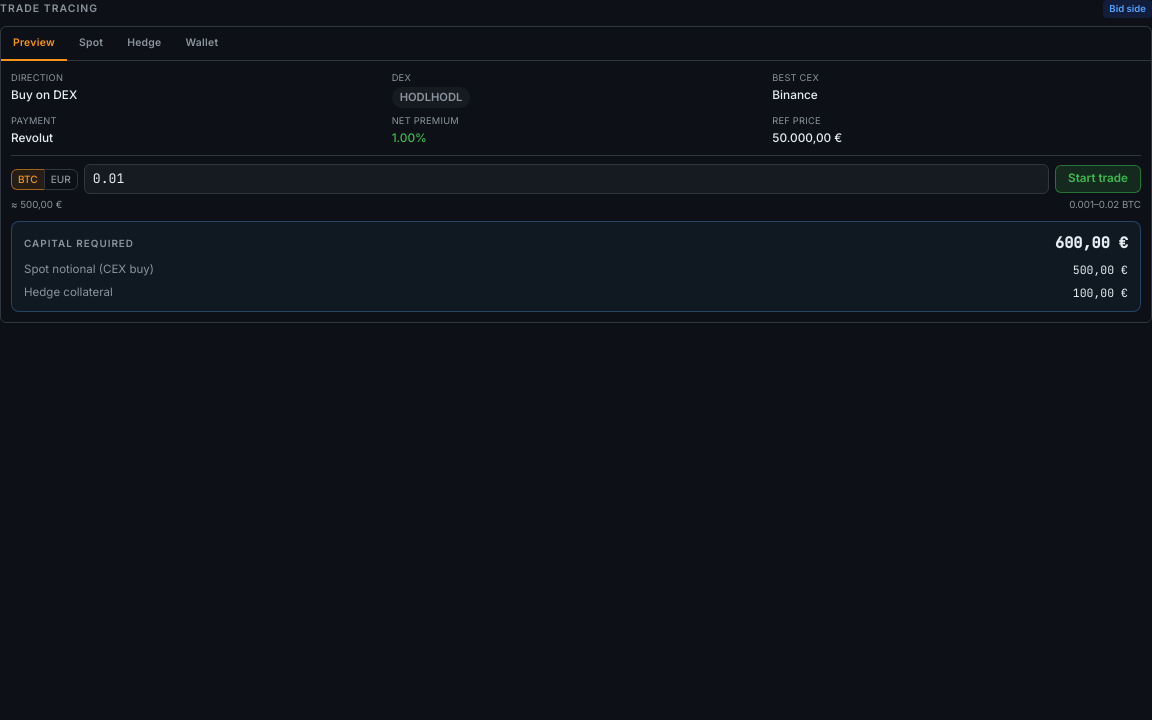
it: TradeTracingPanel trade errors › shows a hedge failure on the hedge tab and marks the filled spot buy as done
Click the button "Start trade" at (1098, 179), box 1055,166 -> 1141,193
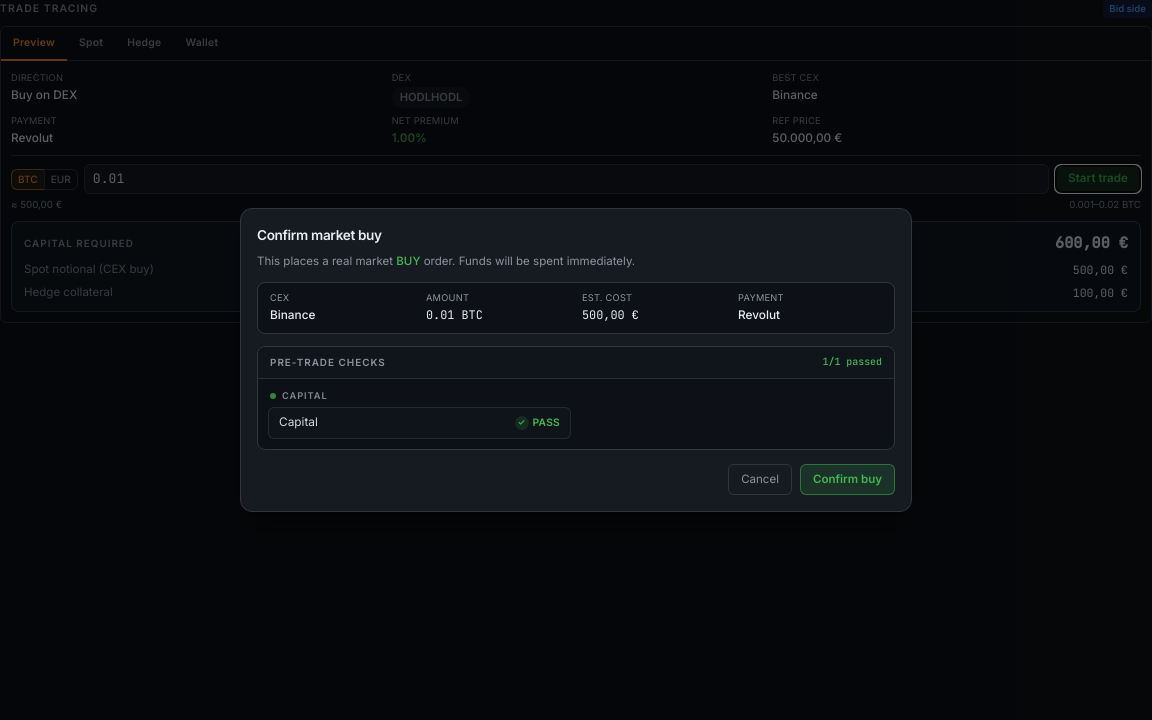
Click the button "Confirm buy" at (847, 479), box 800,464 -> 895,495
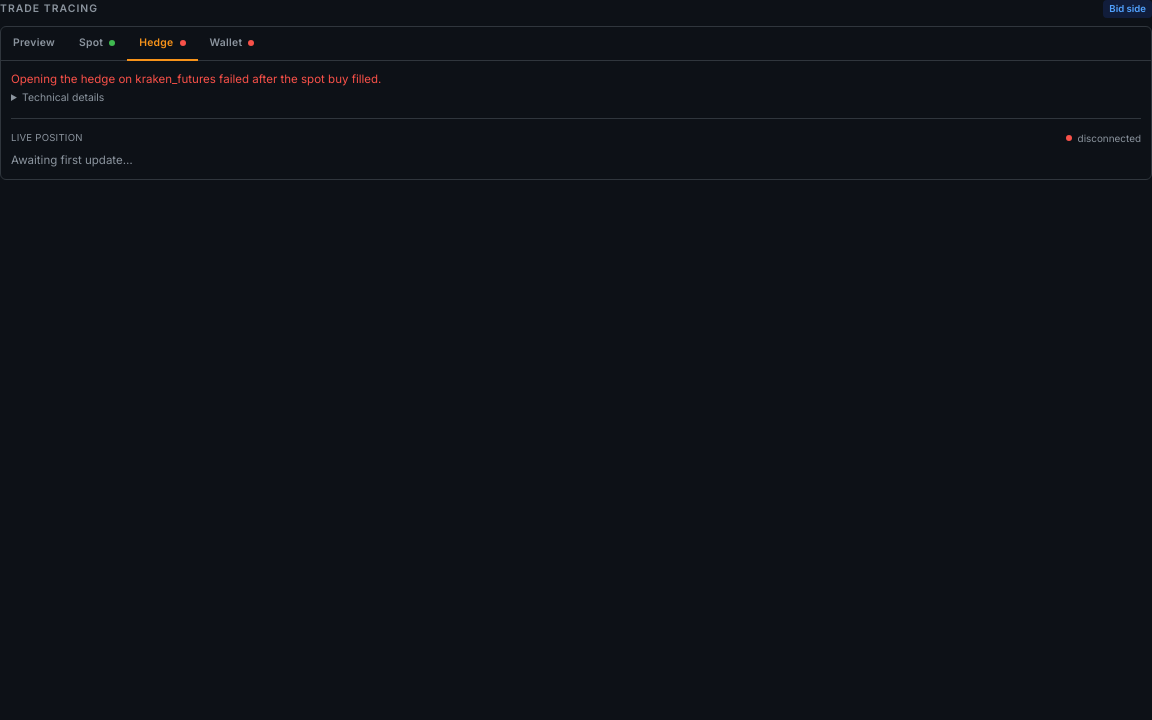
Check: the text "Opening the hedge on kraken_futures failed after the spot buy filled." is shown, box 11,72 -> 381,86
Check: the heading "Technical details" is shown, box 22,91 -> 104,104
Click the button "Spot" at (97, 44), box 67,27 -> 127,61
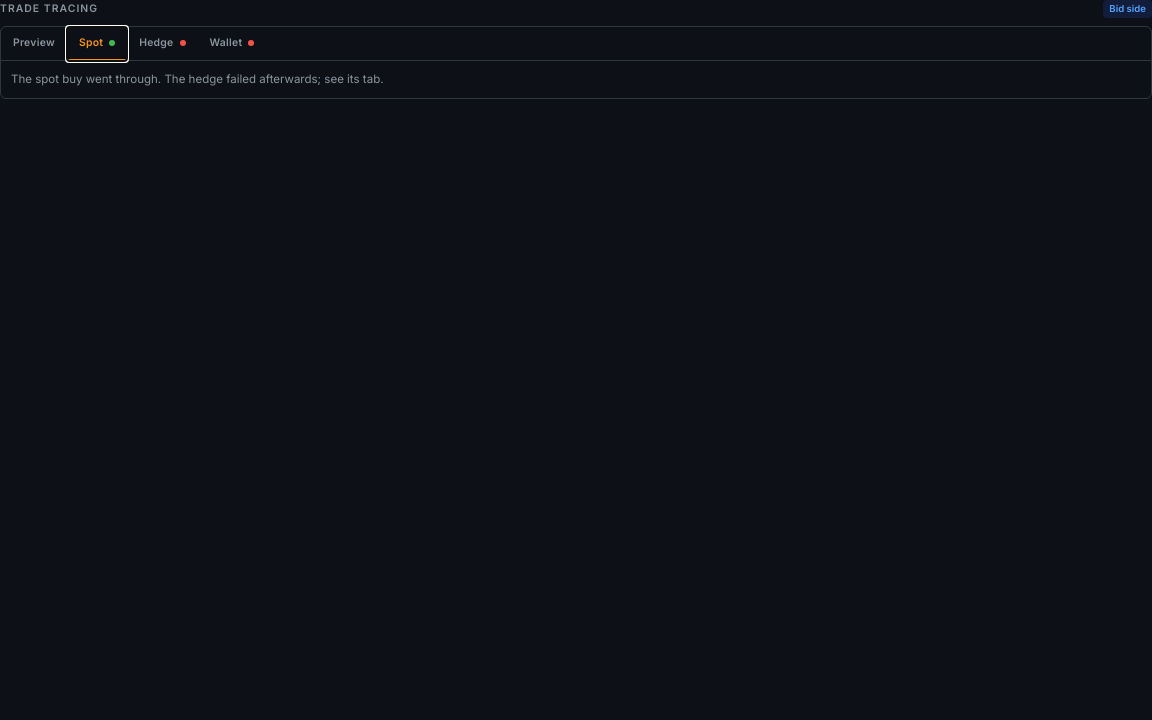
Check: the text "The spot buy went through. The hedge failed afterwards; see its tab." is shown, box 11,72 -> 384,86
